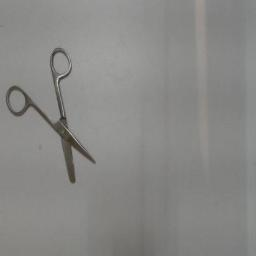Dressing Scissors: (1, 42, 101, 190)
